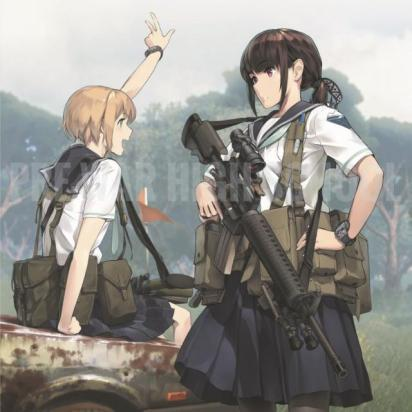Gun: (180, 111, 350, 384)
